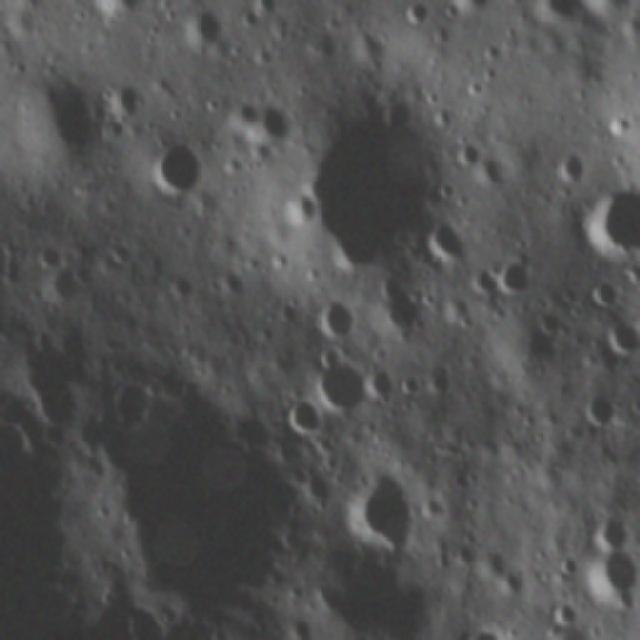crater: (95, 382, 302, 627), (286, 92, 452, 276), (15, 324, 89, 441), (334, 462, 420, 558), (31, 74, 109, 163), (580, 186, 640, 263), (148, 134, 210, 206), (311, 351, 375, 418), (376, 268, 430, 342), (248, 95, 301, 153), (490, 250, 542, 301), (99, 73, 150, 124), (424, 220, 474, 272), (531, 0, 611, 31), (282, 390, 328, 442), (590, 549, 638, 596), (547, 140, 590, 191), (312, 298, 361, 342), (597, 317, 640, 366), (39, 261, 87, 304), (23, 231, 77, 269), (184, 8, 228, 54), (578, 390, 622, 436), (585, 274, 627, 317), (593, 506, 632, 551), (398, 0, 444, 35), (212, 258, 248, 302), (425, 359, 460, 404), (158, 266, 199, 303), (543, 599, 585, 635), (538, 302, 573, 343), (456, 136, 490, 172), (398, 362, 424, 406), (454, 621, 514, 640), (594, 631, 638, 640)
